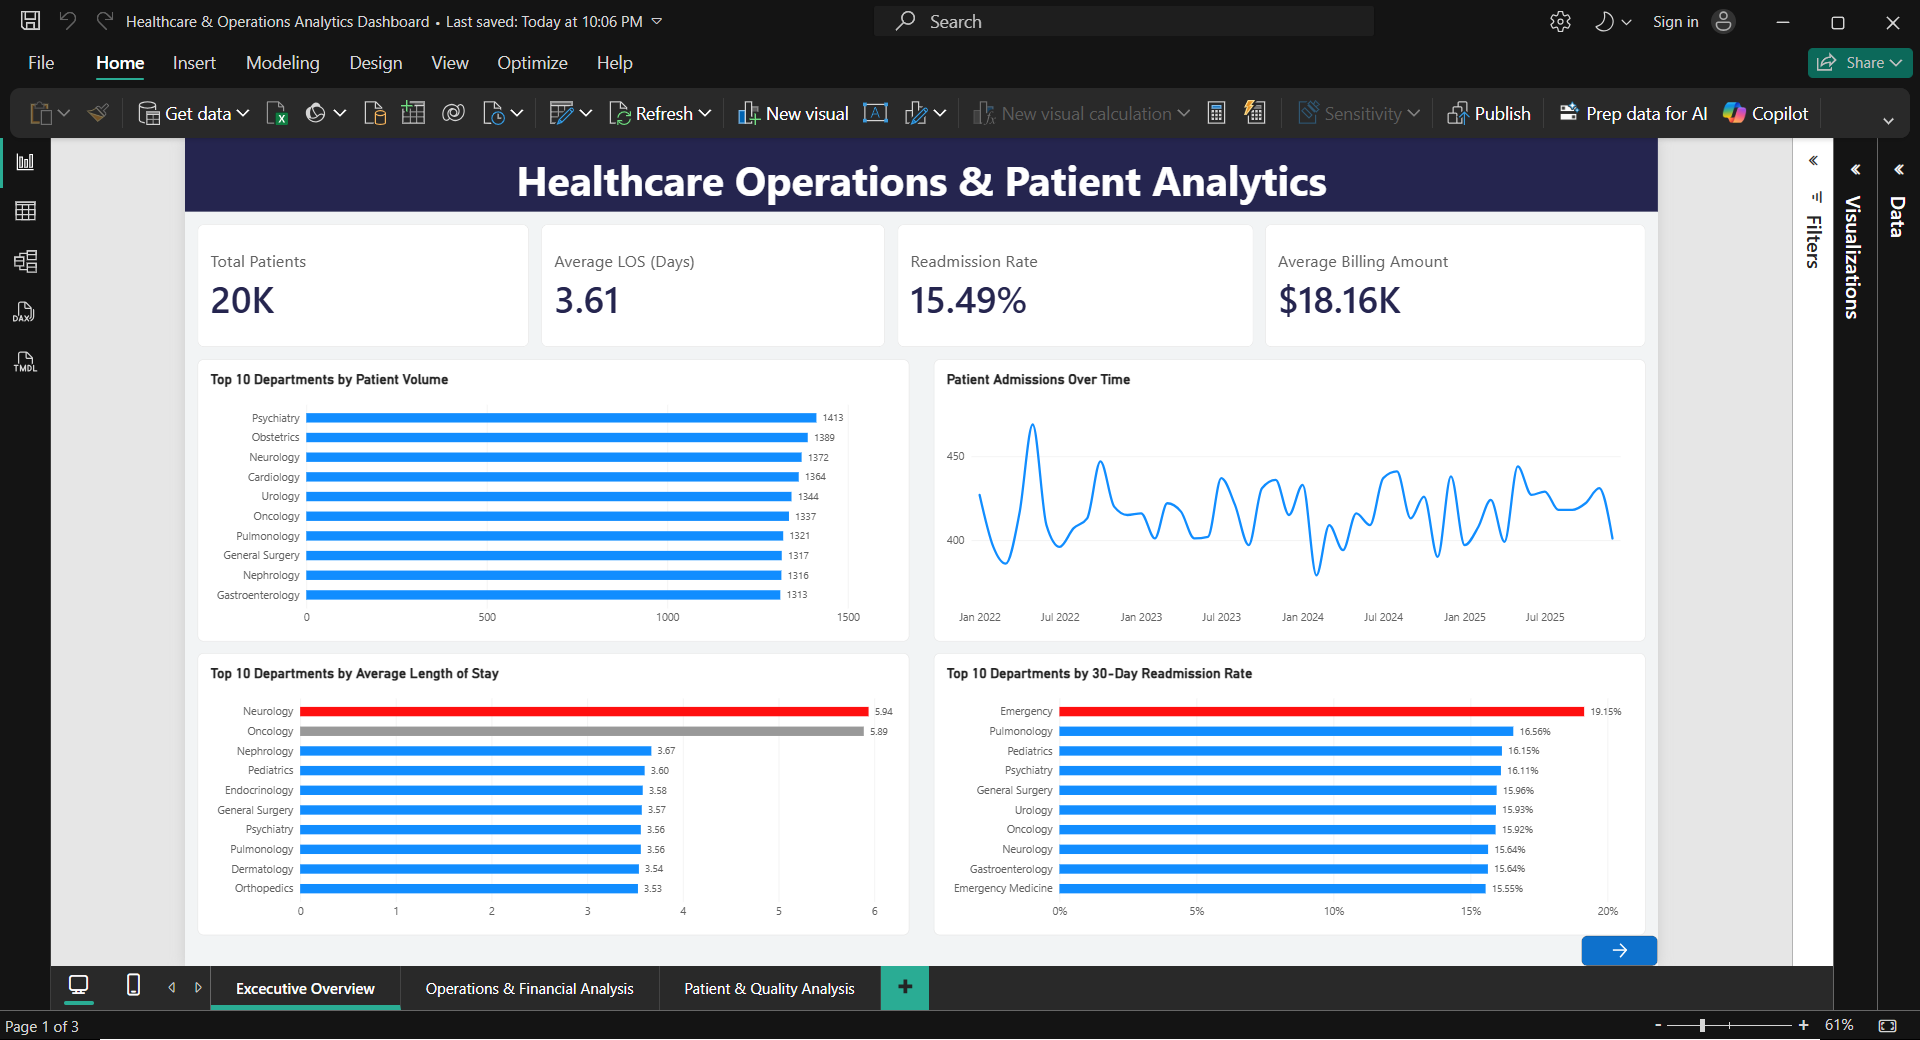

The dashboard page shown, as its layout file describes it:
{"tool":"powerbi","page":{"name":"Excecutive Overview","canvas":[1920,1080],"ordinal":0},"visuals":[{"type":"cardVisual","fields":{"Data":["Clean Data.Total Patients"]},"box":[16,112,432,160],"z":0},{"type":"cardVisual","title":"Average LOS (Days)","fields":{"Data":["Clean Data.Average LOS"]},"box":[464,112,448,160],"z":1000},{"type":"cardVisual","fields":{"Data":["Clean Data.Readmission Rate"]},"box":[928,112,464,160],"z":2000},{"type":"cardVisual","fields":{"Data":["Clean Data.Average Billing Amount"]},"box":[1408,112,496,160],"z":3000},{"type":"clusteredBarChart","title":"Top 10 Departments by Patient Volume","fields":{"Category":["Clean Data.Department"],"Y":["Clean Data.Total Patients"]},"box":[16,288,928,368],"z":4000},{"type":"lineChart","title":"Patient Admissions Over Time","fields":{"Category":["Clean Data.Admission_Date.Variation.Date Hierarchy.Year","Clean Data.Admission_Date.Variation.Date Hierarchy.Month"],"Y":["Clean Data.Total Patients"]},"box":[976,288,928,368],"z":5000},{"type":"clusteredBarChart","title":"Top 10 Departments by Average Length of Stay","fields":{"Category":["Clean Data.Department"],"Y":["Clean Data.Average LOS"]},"box":[16,672,928,368],"z":6000},{"type":"clusteredBarChart","title":"Top 10 Departments by 30-Day Readmission Rate","fields":{"Category":["Clean Data.Department"],"Y":["Clean Data.Readmission Rate"]},"box":[976,672,928,368],"z":7000},{"type":"textbox","box":[0,0,1920,96],"z":8000},{"type":"actionButton","box":[1820,1040,100,40],"z":9000}]}

Visuals, with their boxes on the page's 1920x1080 design canvas (x1, y1, x2, y2). These are canvas units, not pixel positions in the 1920x1040 screenshot, which may show the page scaled, cropped or inside an application window:
cardVisual - Clean Data.Total Patients: (x1=16, y1=112, x2=448, y2=272)
"Average LOS (Days)" cardVisual: (x1=464, y1=112, x2=912, y2=272)
cardVisual - Clean Data.Readmission Rate: (x1=928, y1=112, x2=1392, y2=272)
cardVisual - Clean Data.Average Billing Amount: (x1=1408, y1=112, x2=1904, y2=272)
"Top 10 Departments by Patient Volume" clusteredBarChart: (x1=16, y1=288, x2=944, y2=656)
"Patient Admissions Over Time" lineChart: (x1=976, y1=288, x2=1904, y2=656)
"Top 10 Departments by Average Length of Stay" clusteredBarChart: (x1=16, y1=672, x2=944, y2=1040)
"Top 10 Departments by 30-Day Readmission Rate" clusteredBarChart: (x1=976, y1=672, x2=1904, y2=1040)
textbox: (x1=0, y1=0, x2=1920, y2=96)
actionButton: (x1=1820, y1=1040, x2=1920, y2=1080)
